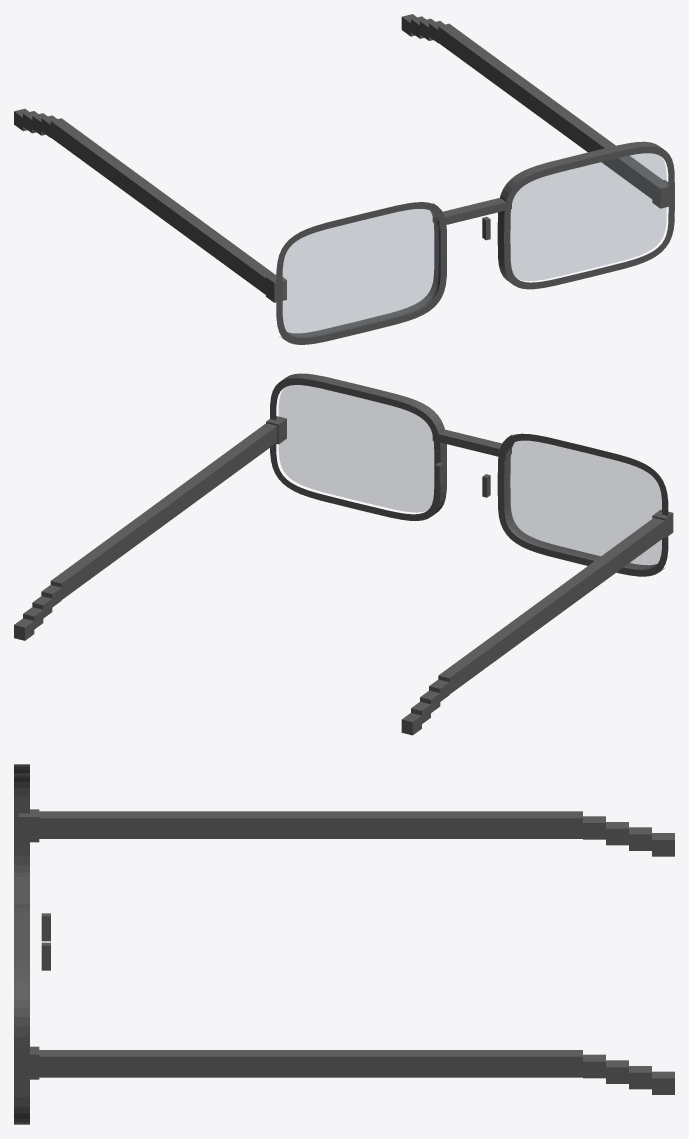
File: p-rect-s.glb
3 renders of one model, top to bottom at view 1: azimuth 30°, elevation 25°; view 2: azimuth 150°, elevation 25°; view 3: azimuth 270°, elevation 25°, orthographic. The views are drawn at different scales.
Visible parts, largest first — view 1: Lens, Frame; view 2: Lens, Frame; view 3: Frame.
Boxes of the visible parts, x1=… form: Lens: x1=283, y1=153, x2=666, y2=336; Frame: x1=14, y1=14, x2=674, y2=344; Lens: x1=279, y1=385, x2=661, y2=567; Frame: x1=14, y1=373, x2=673, y2=735; Frame: x1=14, y1=764, x2=674, y2=1124.
Bounding box in the file's own units: 126 × 36 × 144.
